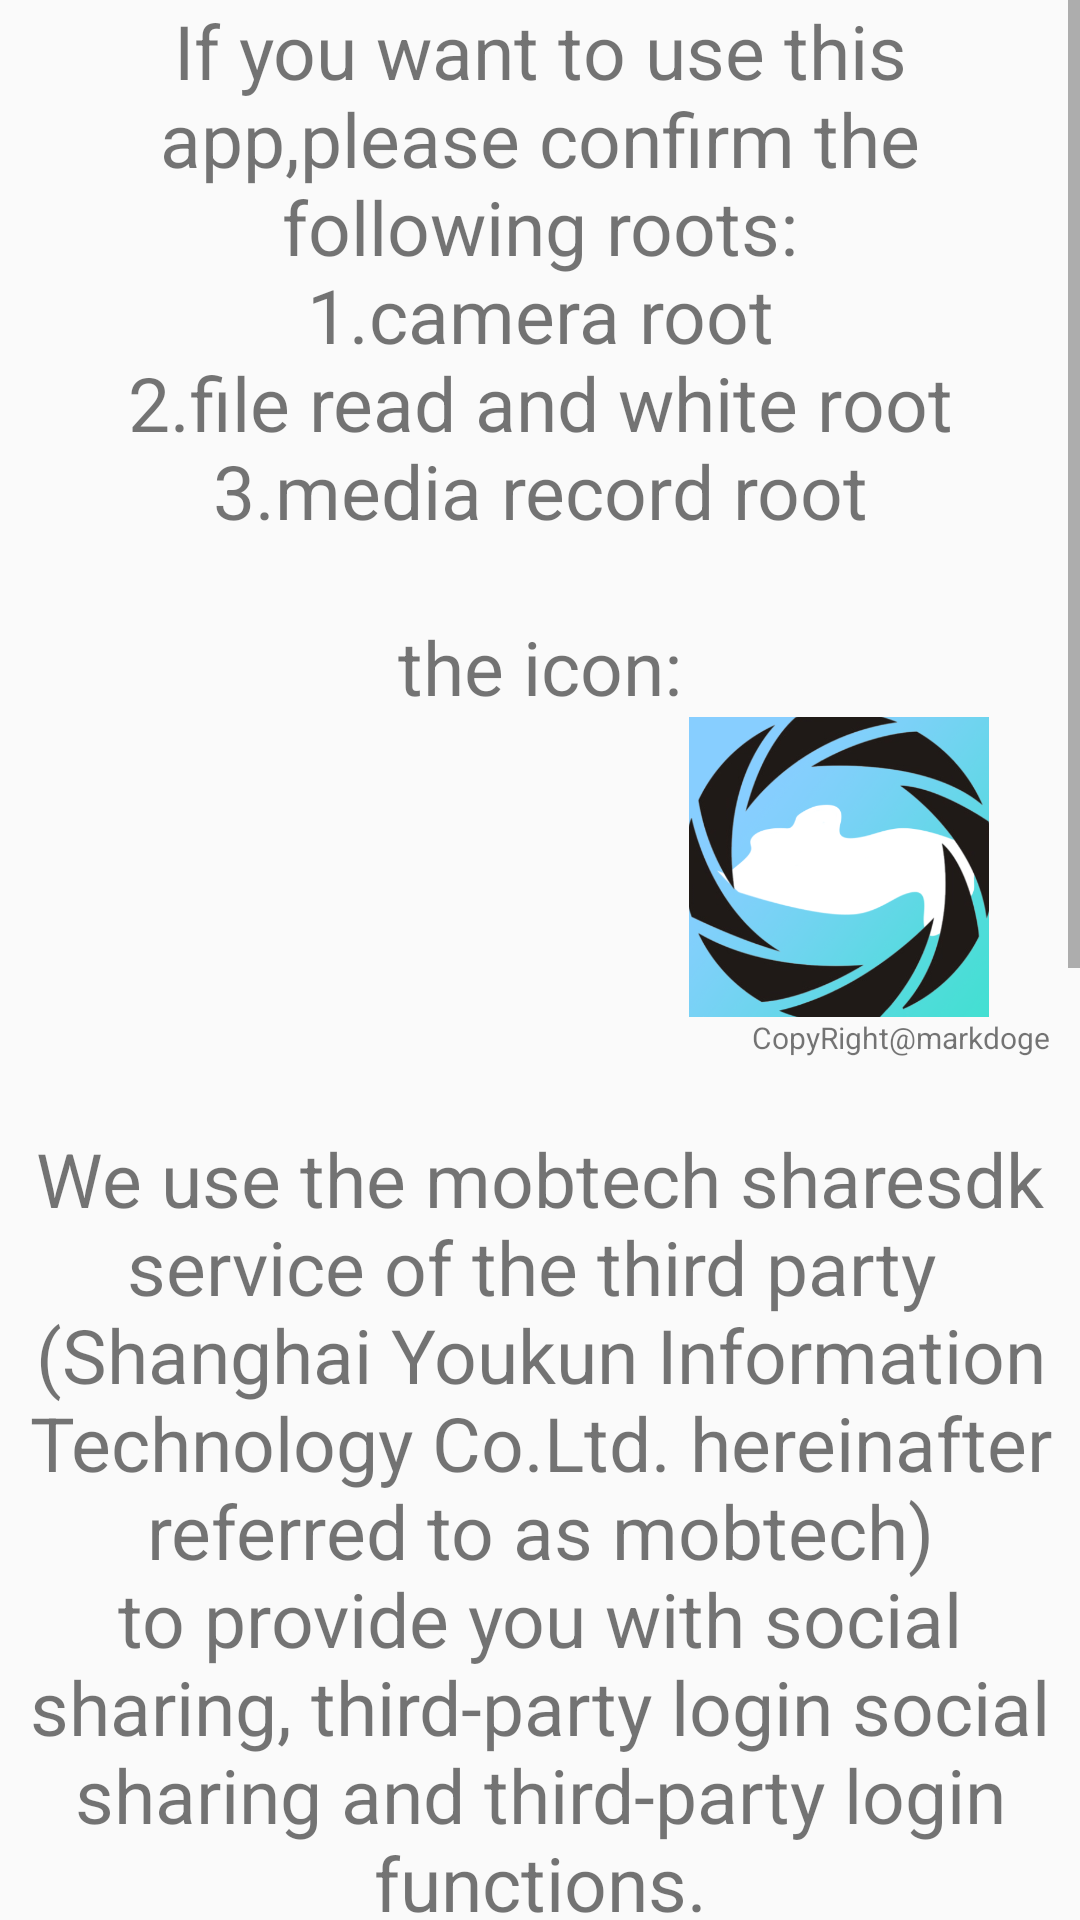

Locate icon controls on the screen. Image size 1080 × 1920, boxes as (x1, y1, x2, y2).
lancher: (689, 717, 989, 1017)
